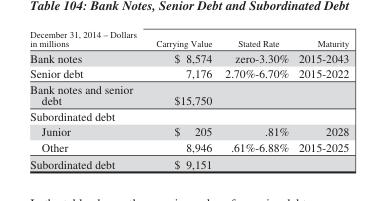table: (29, 29, 348, 170)
table column: (29, 29, 145, 170), (217, 29, 293, 170), (145, 29, 217, 170), (293, 29, 348, 170)
table column header: (29, 29, 348, 49)
table projected row header: (29, 108, 348, 123)
table row: (29, 81, 348, 108), (29, 29, 348, 49), (29, 49, 348, 65), (29, 65, 348, 81), (29, 123, 348, 139), (29, 139, 348, 155), (29, 108, 348, 123), (29, 155, 348, 170)
